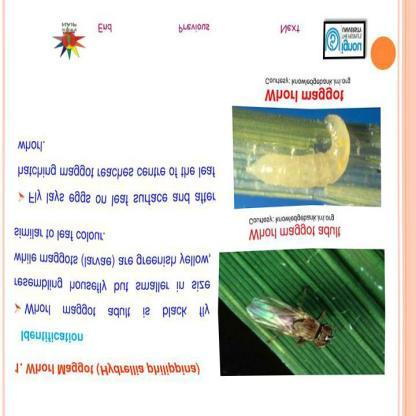whorl-maggot: (242, 111, 355, 198)
